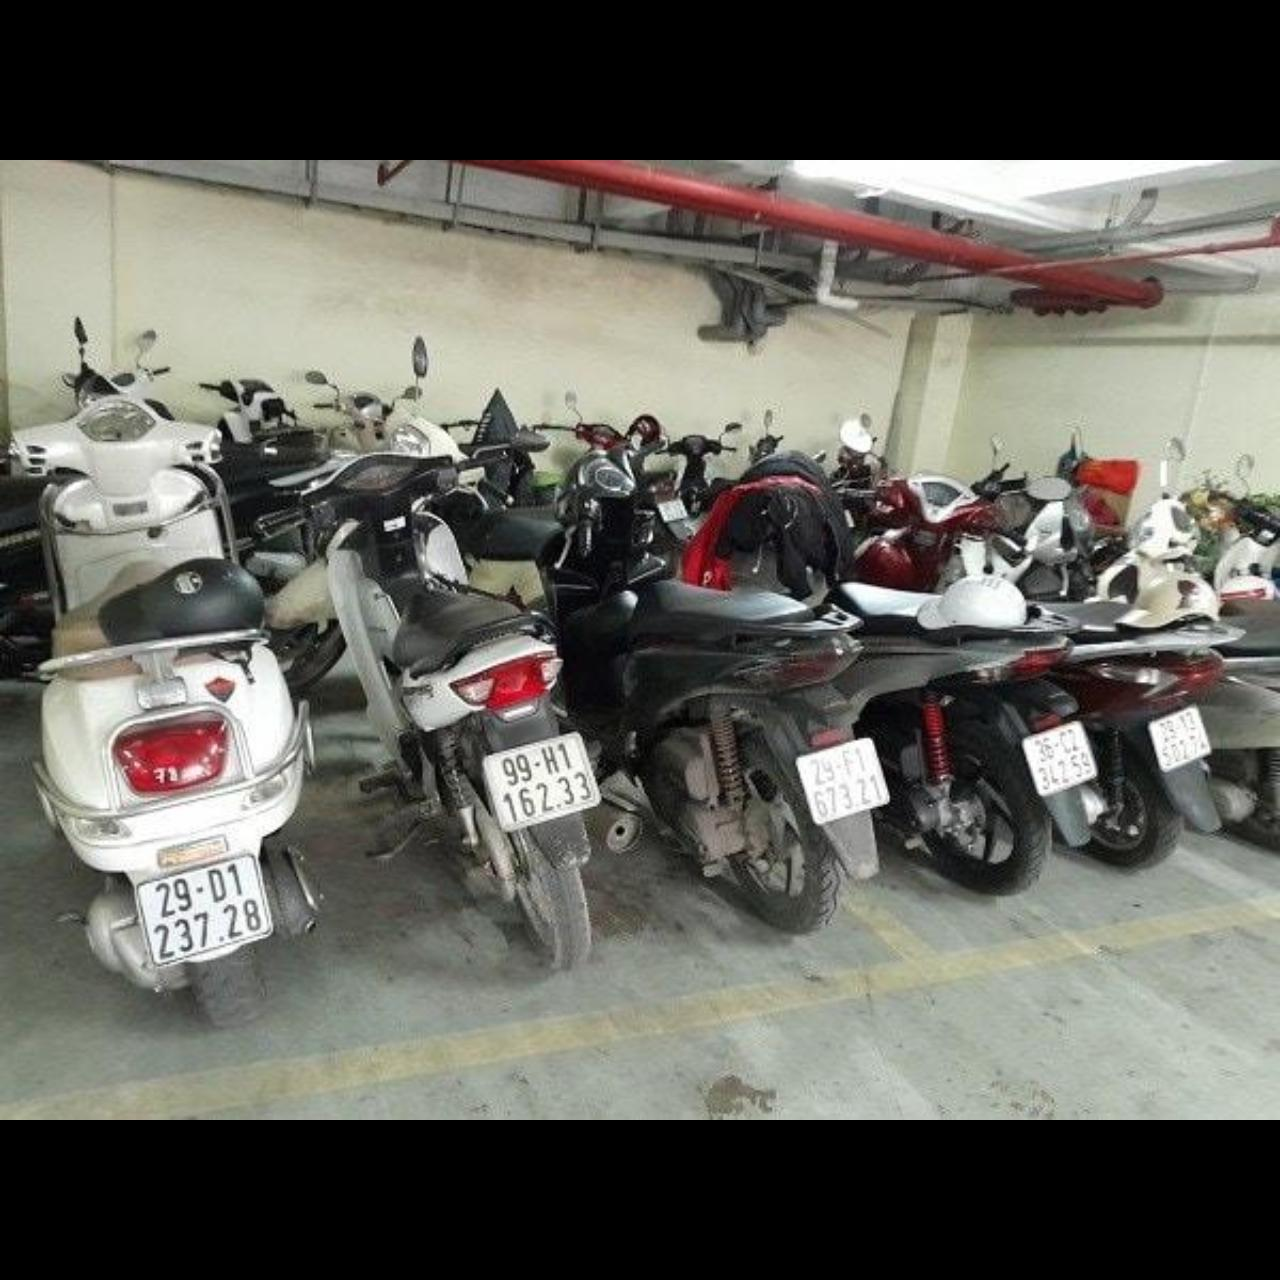bienso: (135, 852, 273, 968), (483, 733, 602, 831), (796, 738, 890, 824), (1022, 720, 1098, 796), (1148, 703, 1212, 773)
